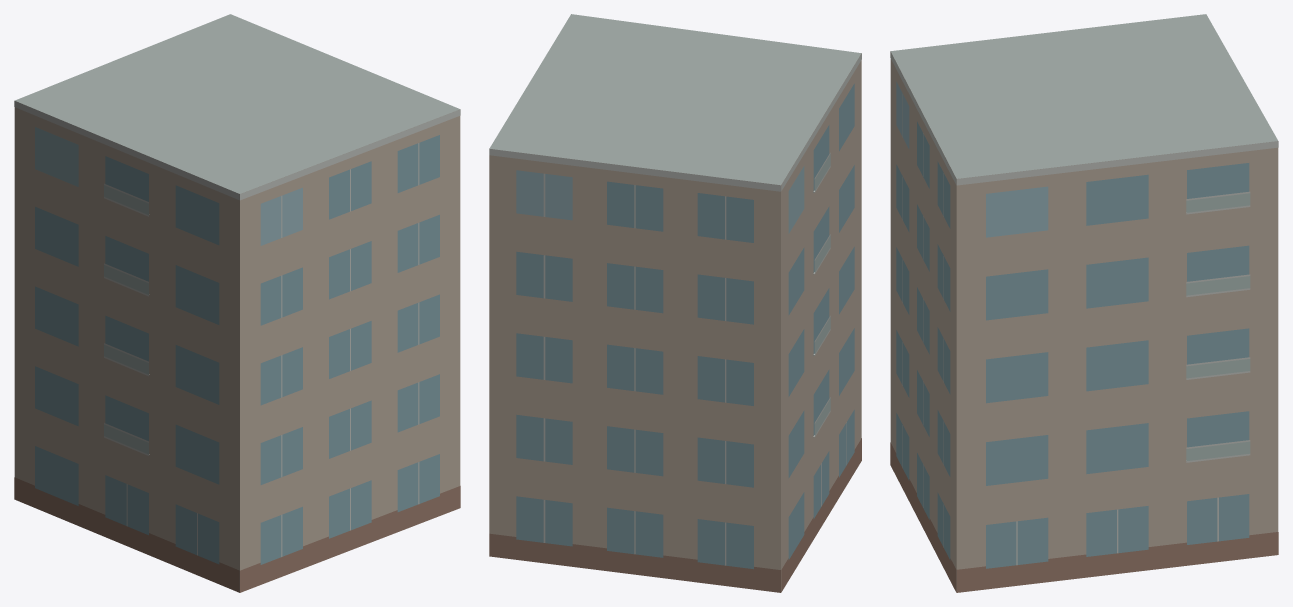
The model's file is survey-upis-32576504.glb.
3 renders of one model, left to right at view 1: azimuth 30°, elevation 25°; view 2: azimuth 150°, elevation 25°; view 3: azimuth 270°, elevation 25°, orthographic. The views are drawn at different scales.
Parts seen in each view (by area): view 1: survey-upis-32576504.tmp; view 2: survey-upis-32576504.tmp; view 3: survey-upis-32576504.tmp.
Part boxes in pixels (x1,y1,x2,y2): survey-upis-32576504.tmp: (14, 14, 460, 592); survey-upis-32576504.tmp: (489, 14, 861, 592); survey-upis-32576504.tmp: (890, 14, 1278, 592).
Size of the model in its own units: 13.04 by 15.25 by 12.97.
